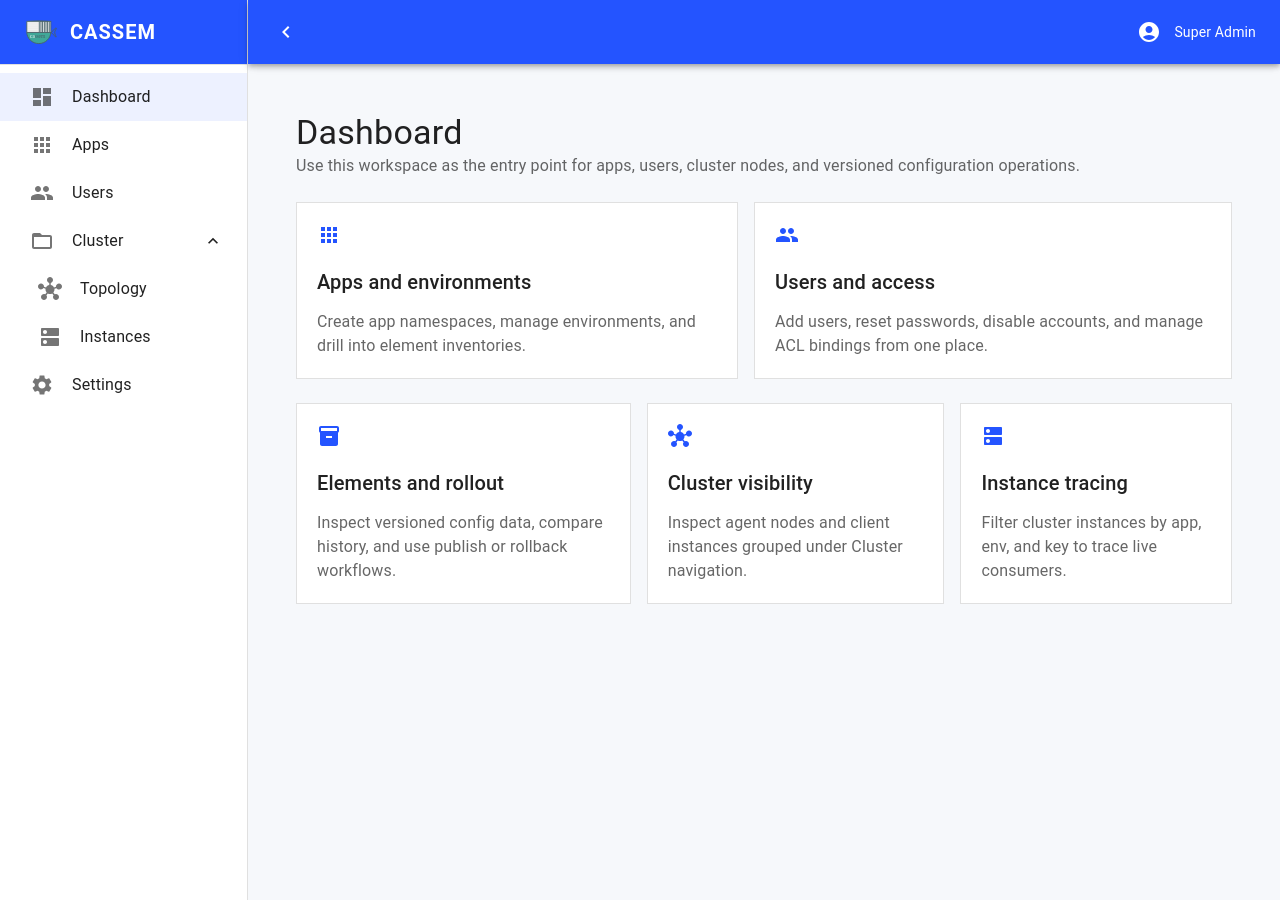
app shell routing › renders branded shell navigation and account menu when authenticated
Expected: the heading "Dashboard" is shown, [296,112,463,152]
Expected: the heading "CASSEM" is shown, [70,16,156,48]
Click the button named "account menu". click: (1149, 32)
box: [1132,15,1166,49]
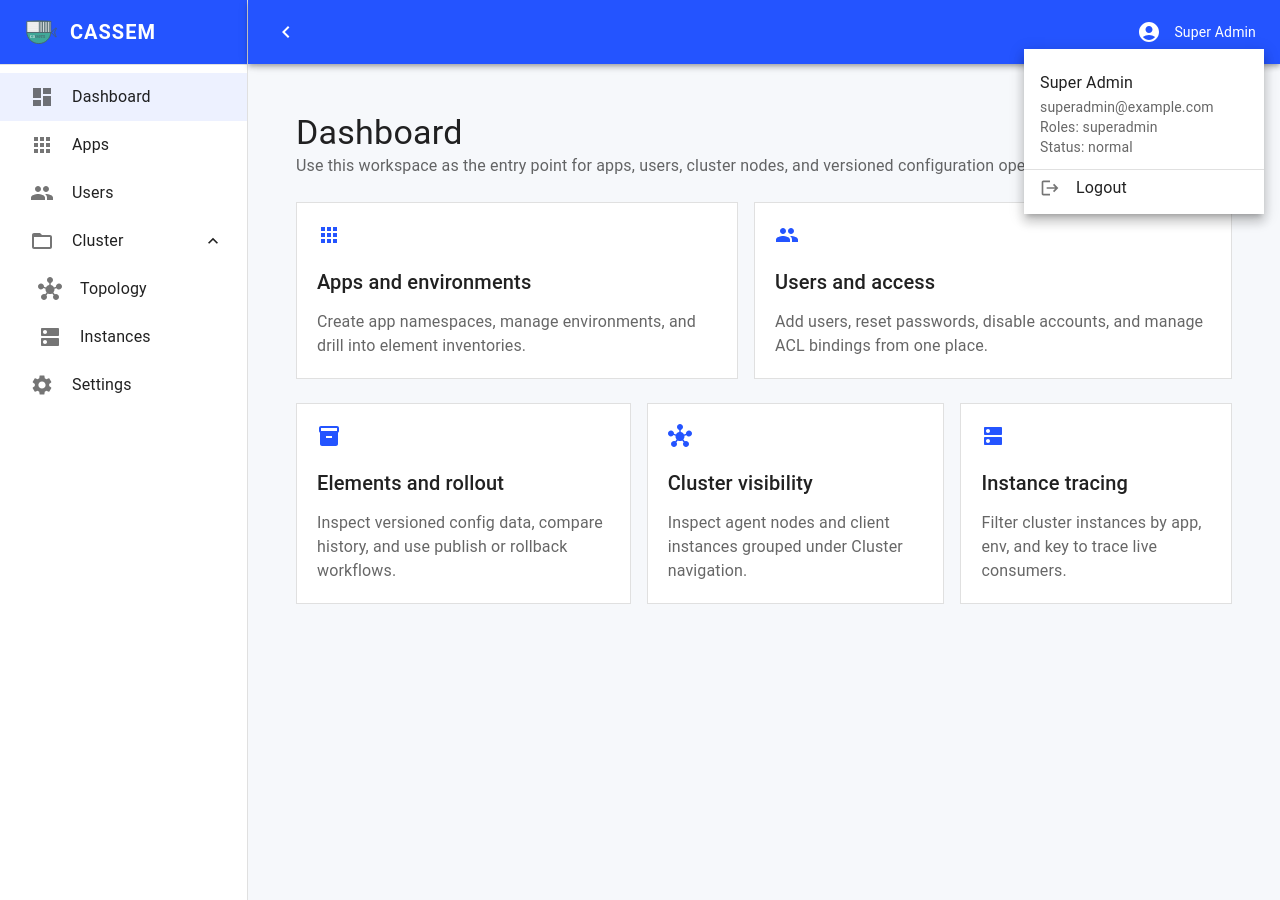
Expected: the text "Roles: superadmin" is shown, [1040,119,1158,135]
Expected: the text "superadmin@example.com" is shown, [1040,99,1214,115]
